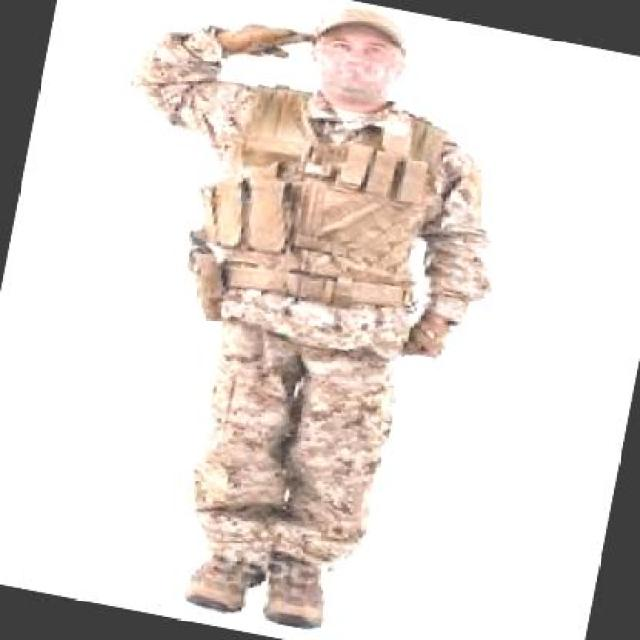MIL_Pax: (47, 0, 527, 638)
